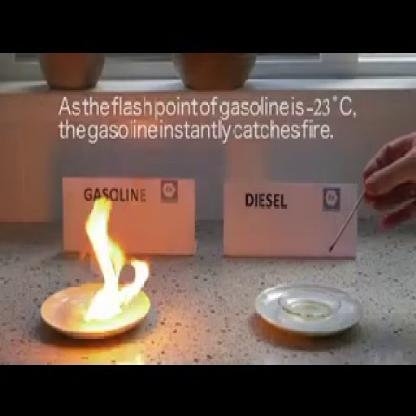fire: (77, 190, 150, 324)
